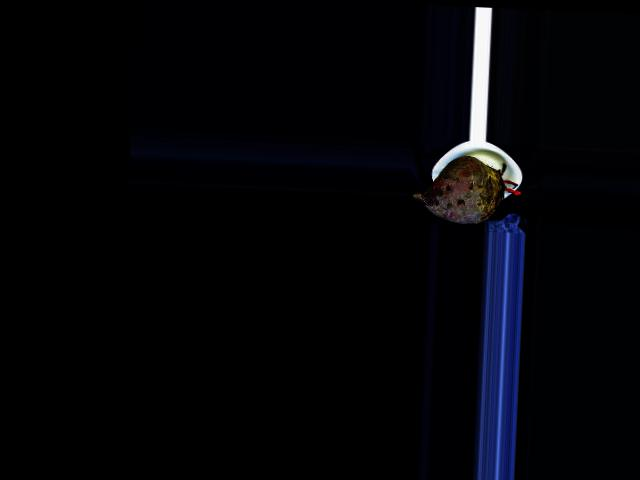beet: (412, 153, 523, 224)
